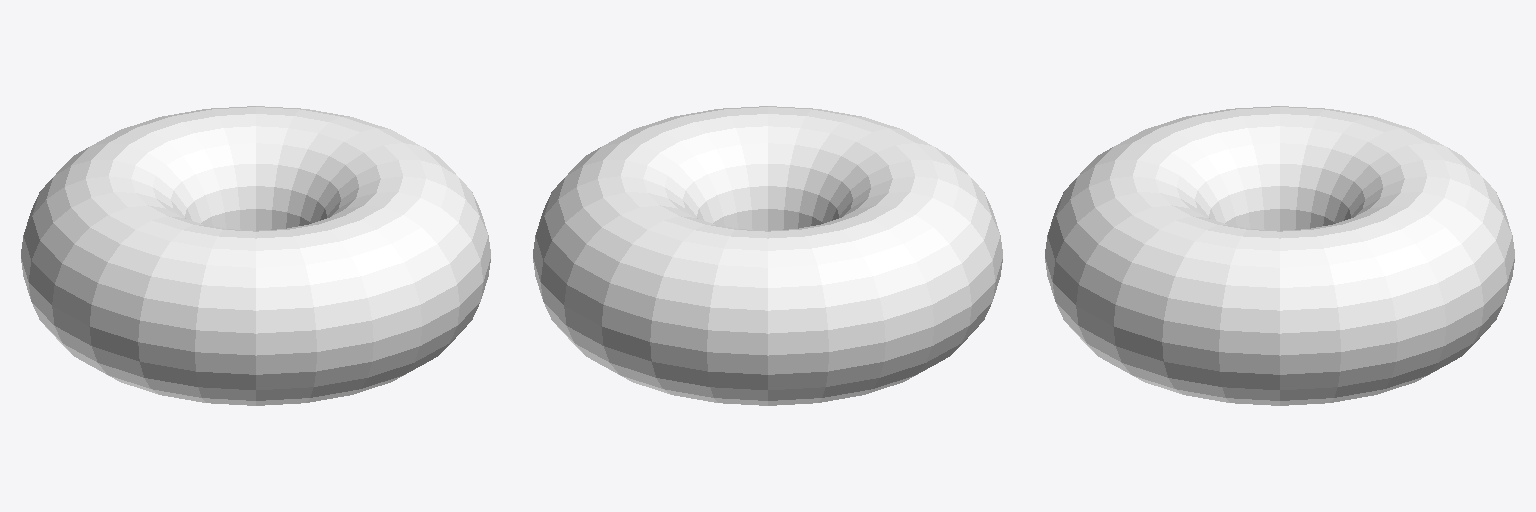
URDF robot description (donut):
<robot name="donut">
	<link name="_name">
		<visual>
			<origin rpy="0 0 0" xyz="-2.5550877659472274e-07 -1.4108351399617716e-07 -42.9576" />
			<geometry>
				<mesh filename="donut/14d31ee208e1823f48b9fefd9341bfa.obj" scale="1 1 1" />
			</geometry>
			<material name="texture">
				<color rgba="1.0 1.0 1.0 1.0" />
			</material>
		</visual>
		<collision>
			<geometry>
				<mesh filename="donut/14d31ee208e1823f48b9fefd9341bfa_vhacd.obj" scale="1 1 1" />
			</geometry>
		<origin rpy="0 0 0" xyz="-2.5550877659472274e-07 -1.4108351399617716e-07 -42.9576" /></collision>
		<inertial>
			<mass value="1.0" />
			<inertia ixx="1.0" ixy="0.0" ixz="0.0" iyy="1.0" iyz="0.0" izz="1.0" />
		</inertial>
	</link>
</robot>

--- Facts derived from the render (not from the file) ---
Views: 3 orthographic renders of the robot side by side, from view 1: azimuth 30°, elevation 25°; view 2: azimuth 150°, elevation 25°; view 3: azimuth 270°, elevation 25°.
Model donut with 1 links and 0 joints (none), rooted at _name, posed every joint at zero.
Visible links, largest first — view 1: _name; view 2: _name; view 3: _name.
Boxes of the visible links, x1,y1,x2,y2 form: _name: (21,106,490,405); _name: (533,106,1002,405); _name: (1045,106,1514,405).
Bounding box of the posed robot: 230 × 230 × 85.92 m (x, y, z).
Meshes: 1 distinct files referenced, 1 mesh visuals loaded (1 OBJ).